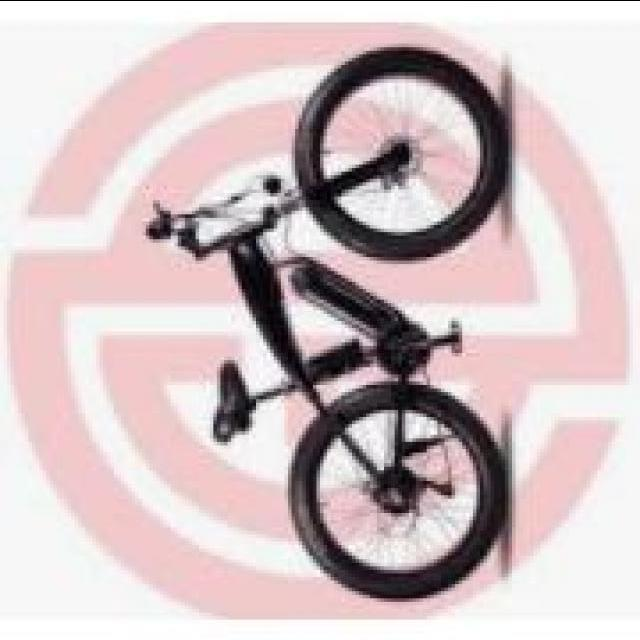bicycle: (129, 43, 517, 587)
